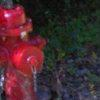Hydrant: (1, 2, 51, 100)
